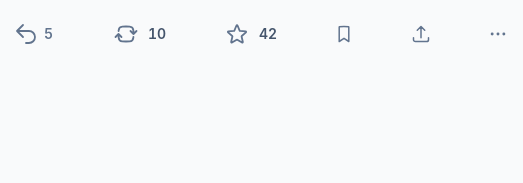
StatusActions › fails closed when the API omits the per-viewer quote permission
Click the button with test id "reblog-action" at (126,34), box [104, 12, 148, 56]
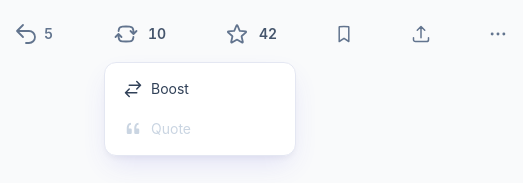
Expected: the menu item "Quote" is disabled, [111, 109, 289, 149]
